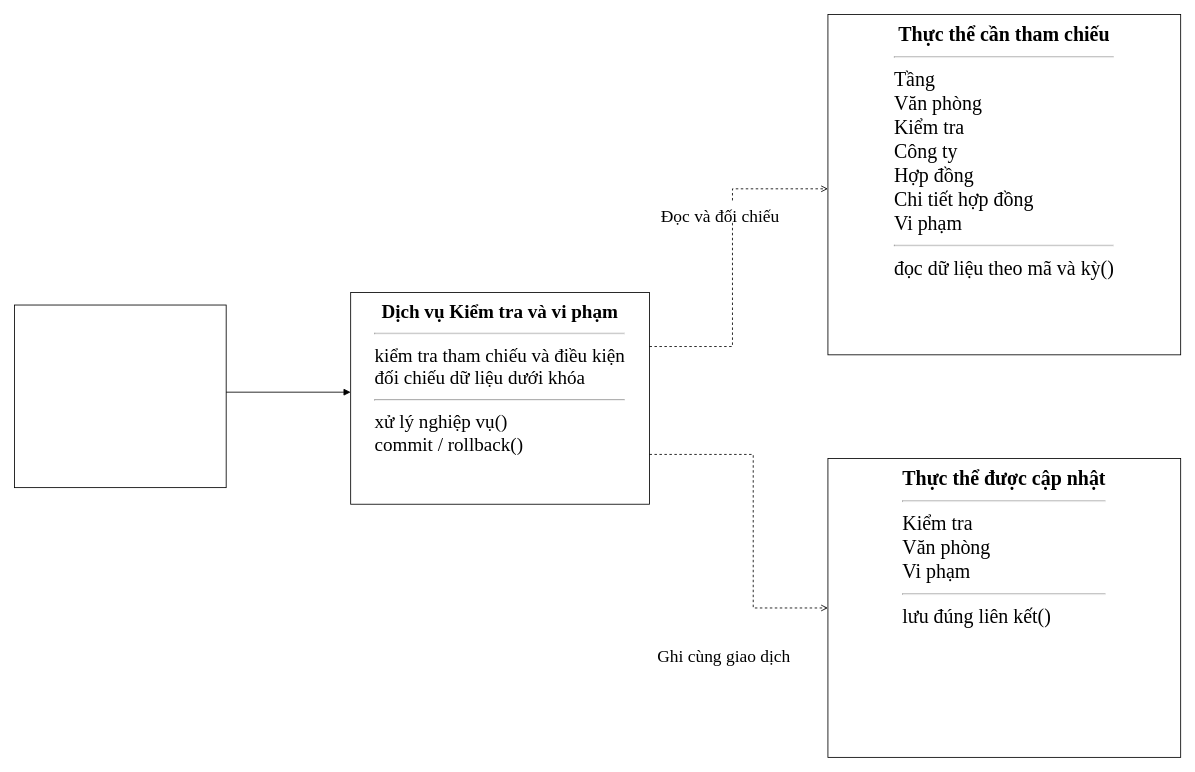
The diagram is 1195 pixels wide and 772 high, and some of its shapes have lost their labels. Each missing label, with the box of its shape:
FrmKiemTra chọn bản ghi, nhập thông tin hiển thị lỗi và kết quả gửi yêu cầu(): (14, 304, 226, 488)
Yêu cầu: (256, 370, 320, 390)
